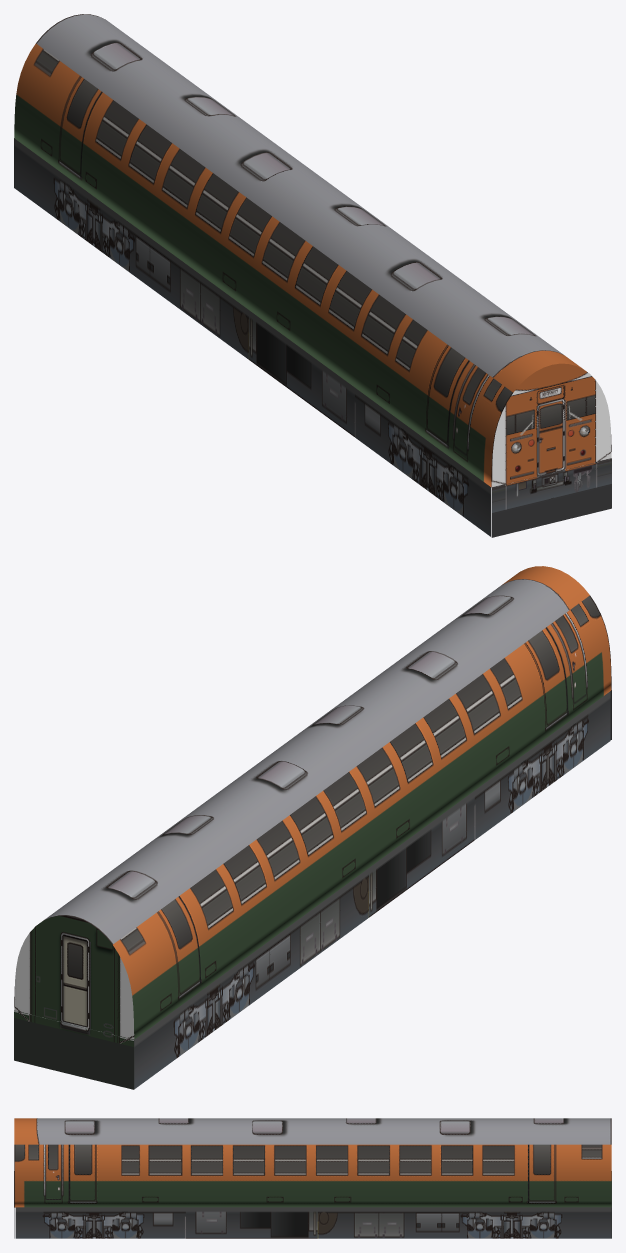
Rendered from car1.glb.
The picture shows the model from 3 angles, top to bottom: view 1: azimuth 30°, elevation 25°; view 2: azimuth 150°, elevation 25°; view 3: azimuth 270°, elevation 25°; orthographic projection. The views are drawn at different scales.
Visible parts, largest first — view 1: jnr-155-car1; view 2: jnr-155-car1; view 3: jnr-155-car1.
Part boxes in pixels (left/top/right/bottom): jnr-155-car1: left=14, top=14, right=611, bottom=537; jnr-155-car1: left=14, top=566, right=611, bottom=1089; jnr-155-car1: left=14, top=1118, right=611, bottom=1238.
Size of the model in its own units: 2.9 by 3.65 by 20.03.
9 materials, 8 textured.
